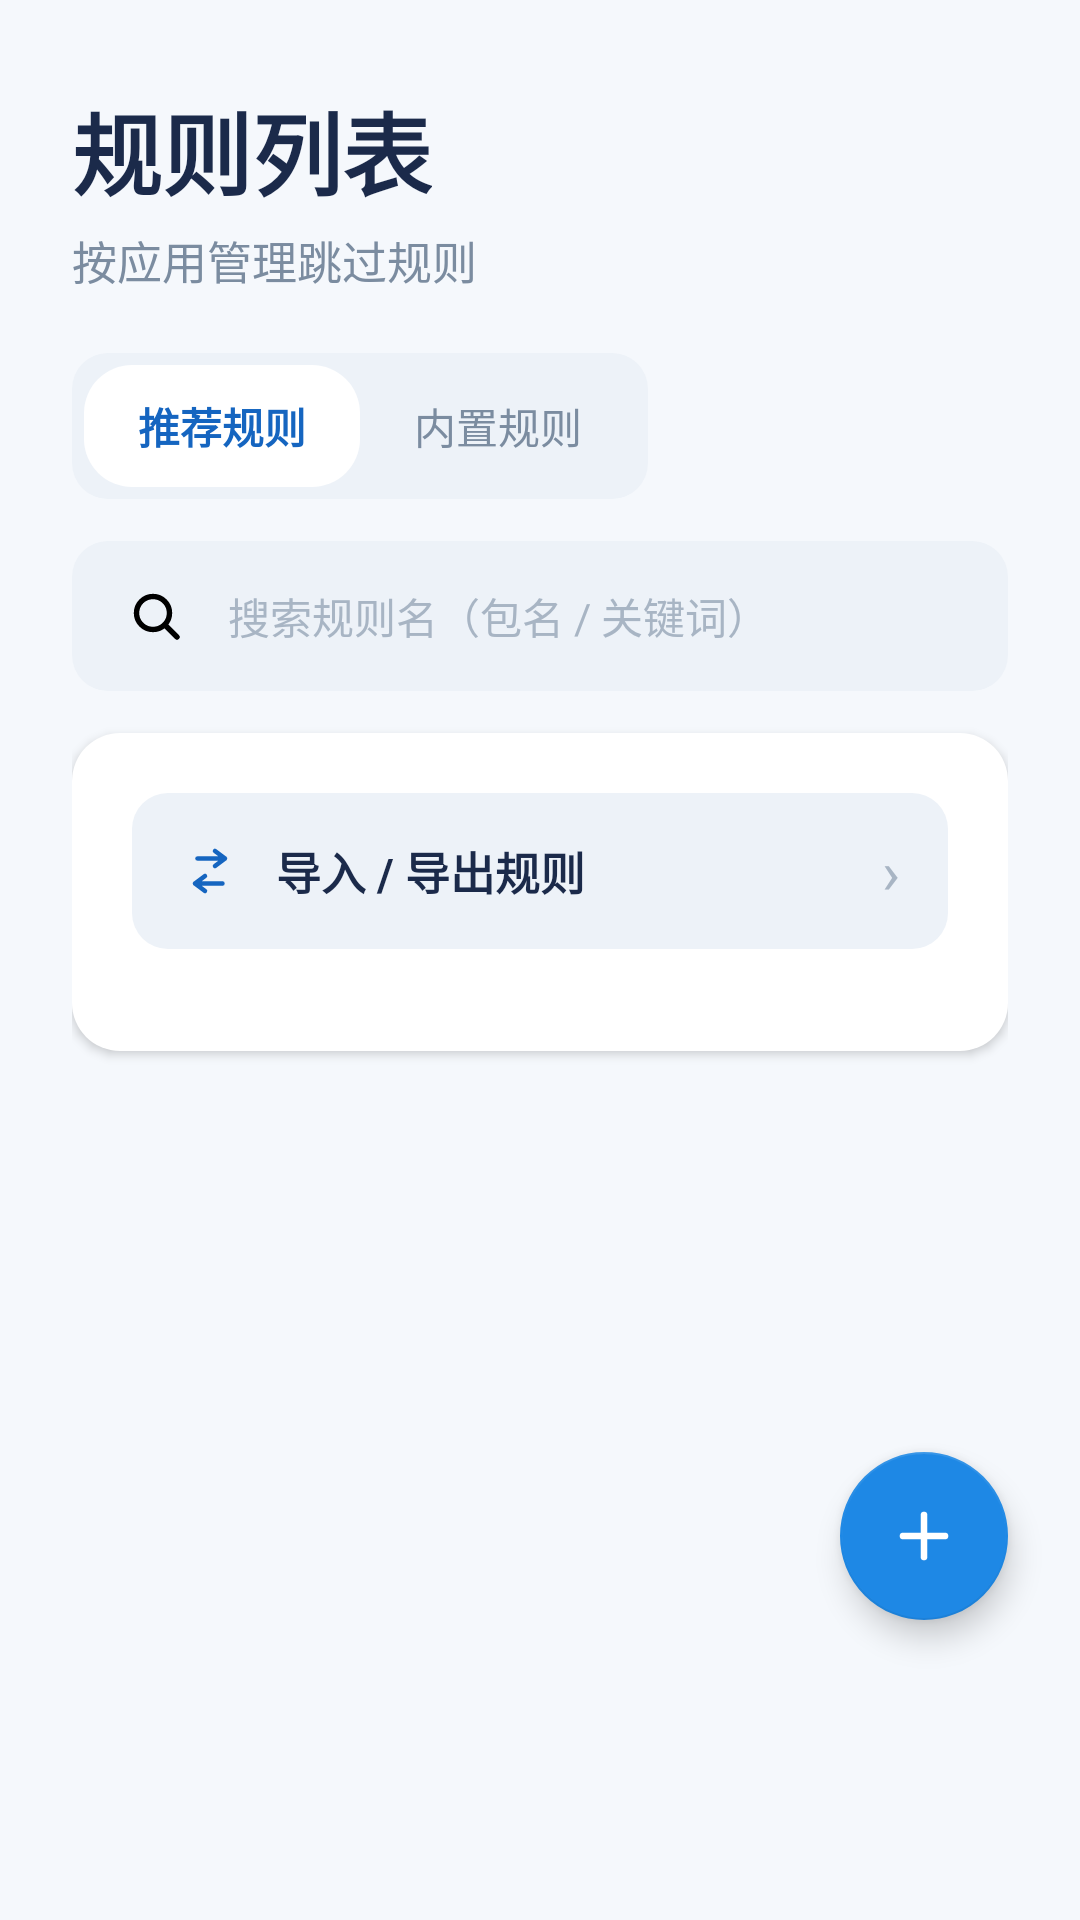

Where to tap for icons on this 1080px x 1920px app screen, as (x=x, y=y):
transfer: (x=210, y=871)
添加: (x=924, y=1536)
